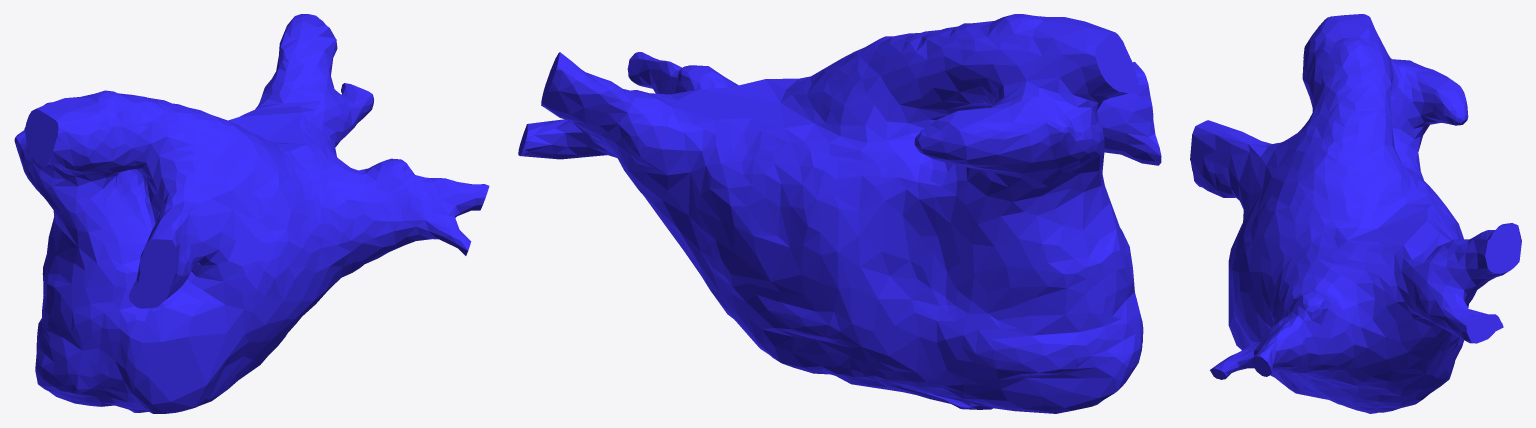
File: left_atrium.glb
The picture shows the model from 3 angles, left to right: view 1: azimuth 30°, elevation 25°; view 2: azimuth 150°, elevation 25°; view 3: azimuth 270°, elevation 25°; orthographic projection. The views are drawn at different scales.
Visible parts, largest first — view 1: LEFT ATRIUM; view 2: LEFT ATRIUM; view 3: LEFT ATRIUM.
Boxes of the visible parts, left/top/right/bottom form: LEFT ATRIUM: left=14, top=14, right=489, bottom=413; LEFT ATRIUM: left=518, top=14, right=1161, bottom=413; LEFT ATRIUM: left=1190, top=14, right=1521, bottom=413.
Size of the model in its own units: 95.82 by 66.62 by 64.24.
